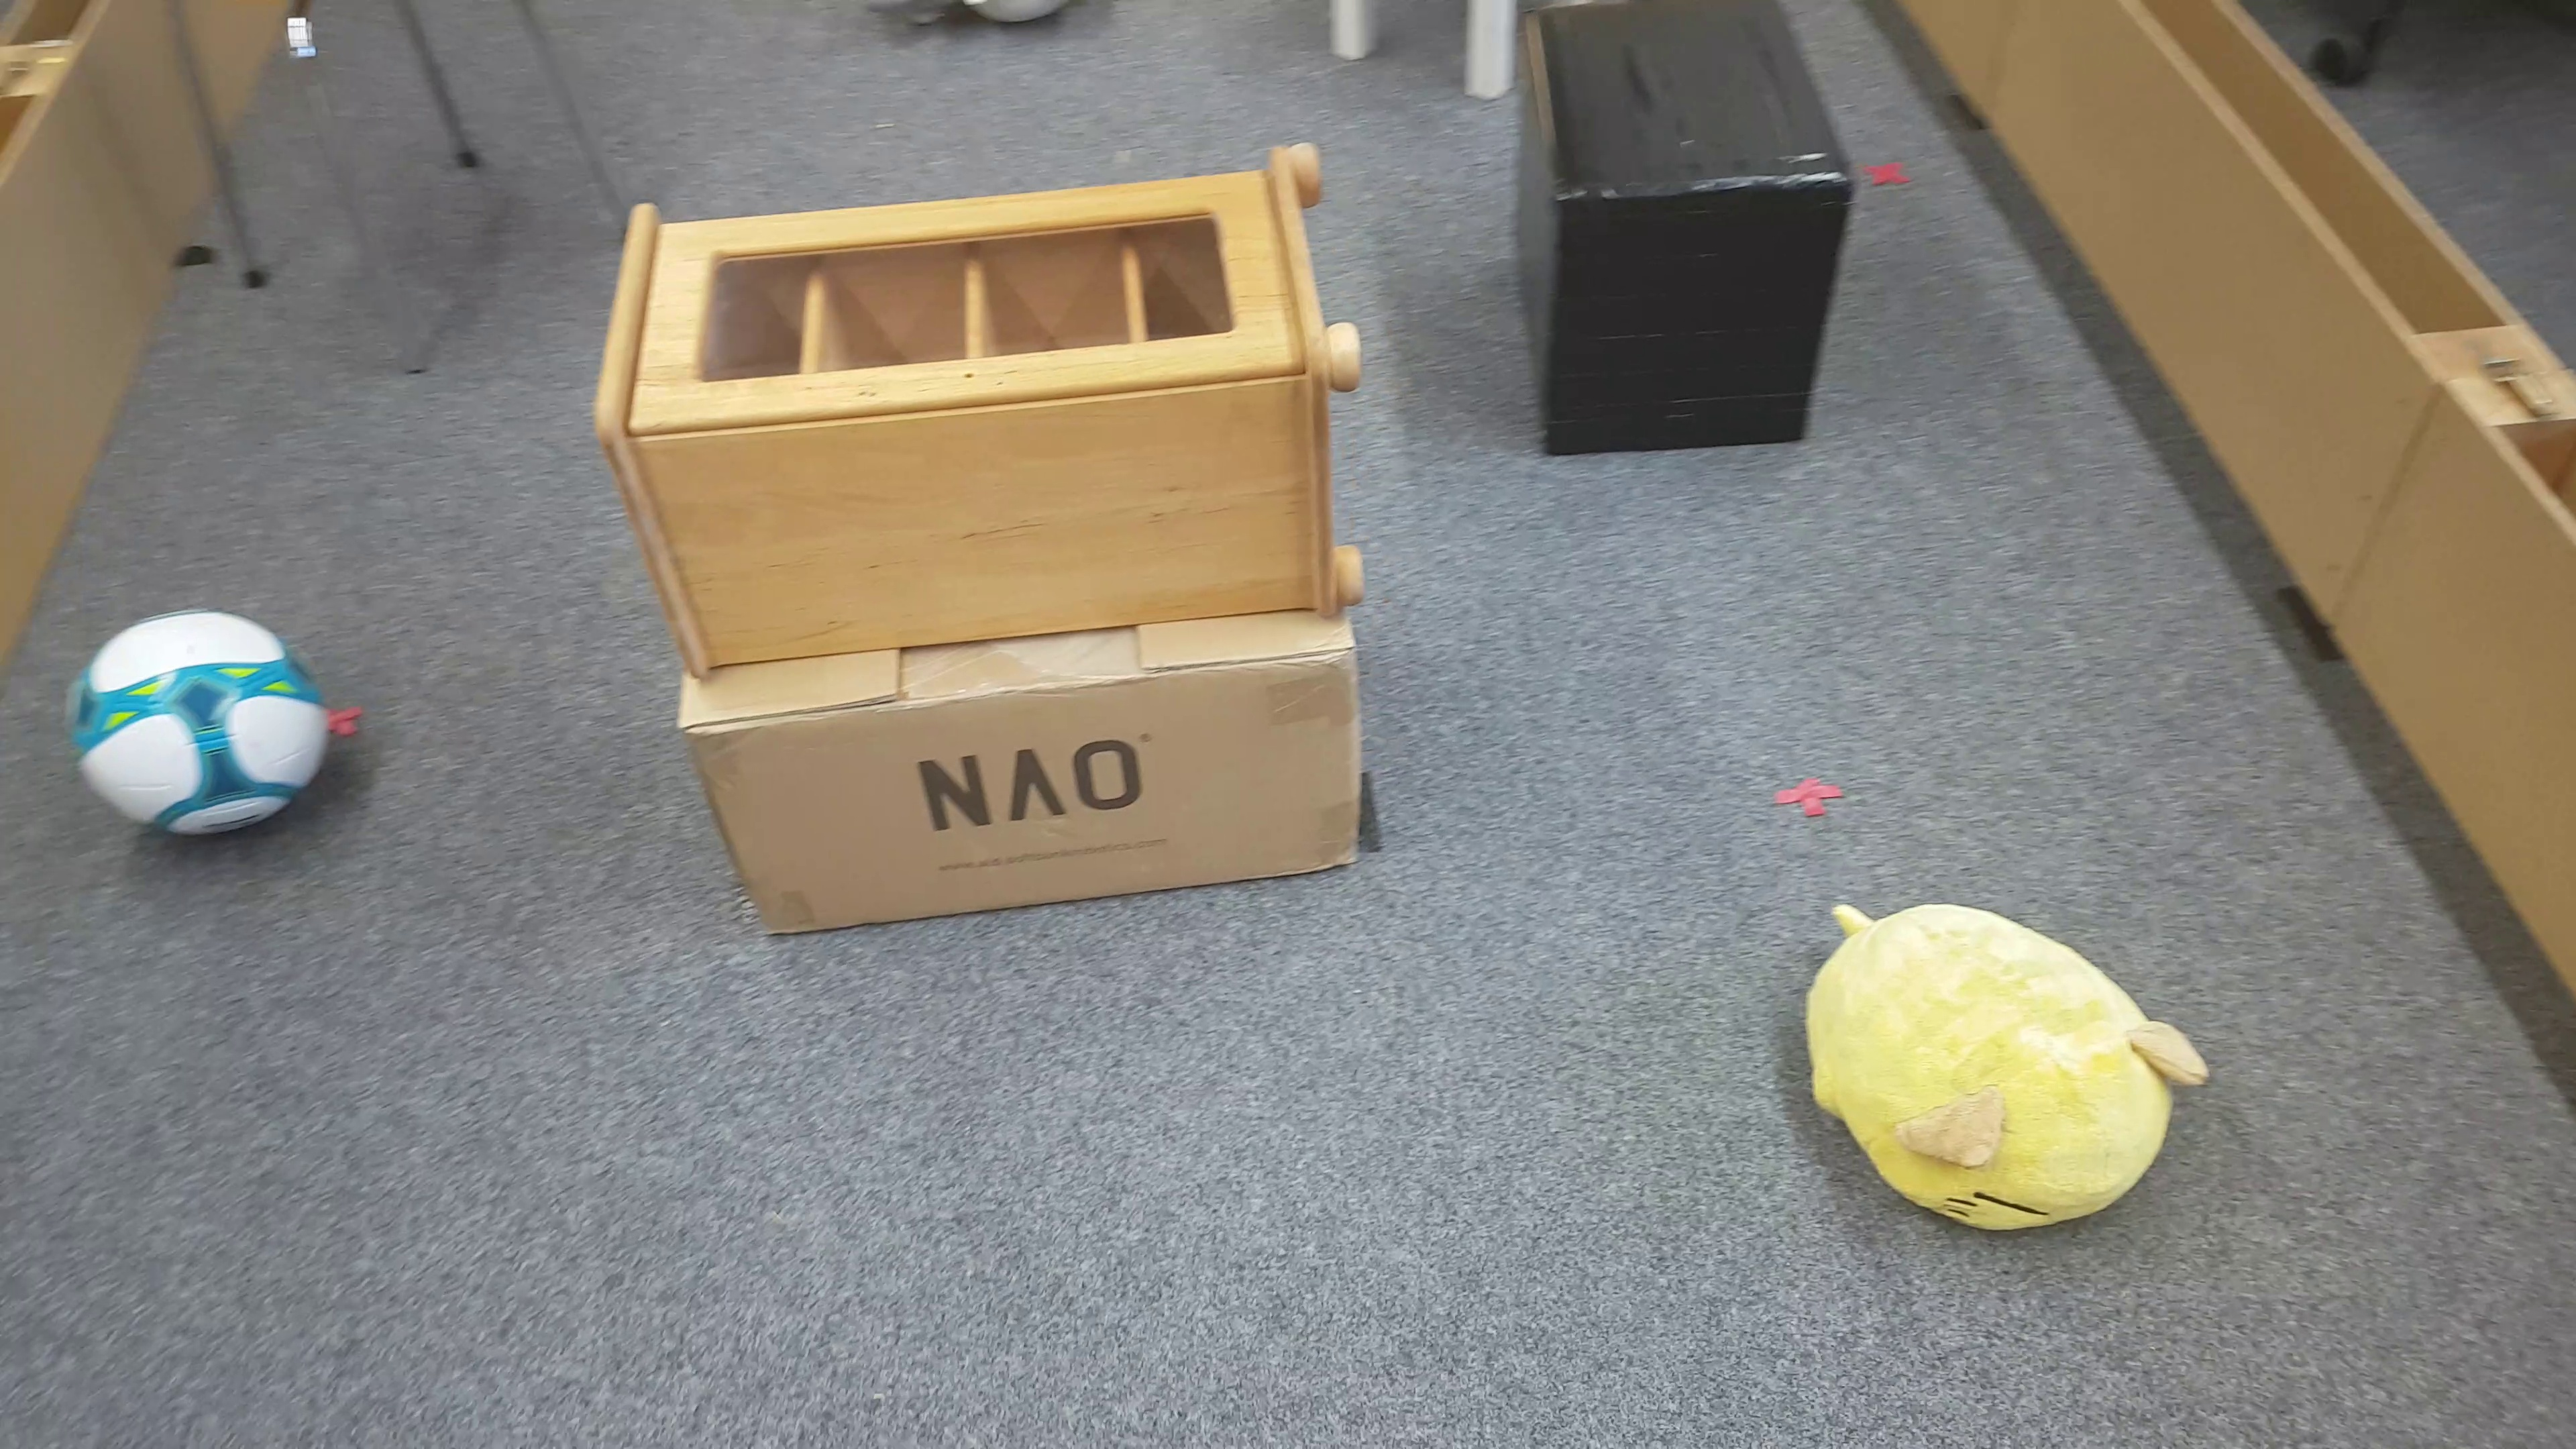grasp: (1803, 897, 2204, 1228), (867, 0, 1081, 46)
kick: (69, 609, 331, 844)
push: (1511, 0, 1858, 464)
